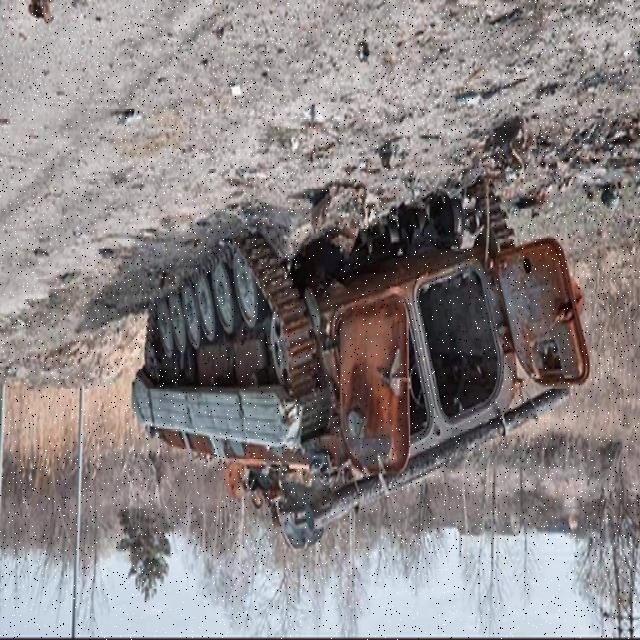APC-IFV: (123, 144, 585, 556)
